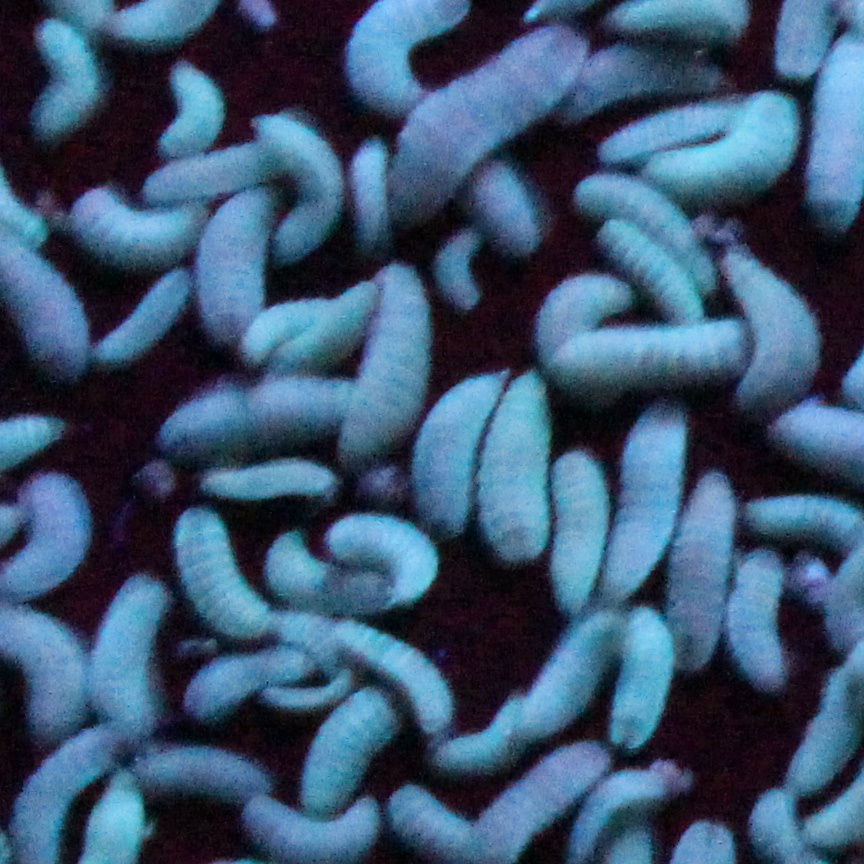larve: (393, 35, 578, 225), (664, 95, 808, 208), (576, 177, 716, 288), (155, 378, 348, 458), (565, 321, 752, 401), (611, 406, 683, 607), (668, 472, 737, 676), (722, 256, 820, 399), (335, 621, 455, 732), (510, 615, 617, 736), (593, 223, 714, 329), (93, 575, 173, 735), (561, 49, 732, 123), (298, 691, 408, 797), (1, 609, 90, 740), (351, 274, 415, 455), (421, 364, 490, 531), (172, 511, 260, 636), (200, 189, 269, 338), (490, 382, 549, 556), (262, 117, 335, 257), (77, 190, 194, 271), (729, 545, 794, 689), (280, 282, 380, 374), (269, 537, 385, 615), (241, 794, 374, 860), (187, 647, 304, 722), (332, 517, 432, 597), (610, 617, 671, 741), (102, 278, 188, 365), (537, 277, 623, 364), (555, 449, 599, 613), (426, 709, 533, 774), (132, 756, 272, 800), (200, 463, 344, 505), (36, 32, 93, 137), (343, 142, 390, 255), (242, 300, 314, 362), (433, 231, 485, 316), (169, 68, 220, 151), (139, 160, 264, 192)
